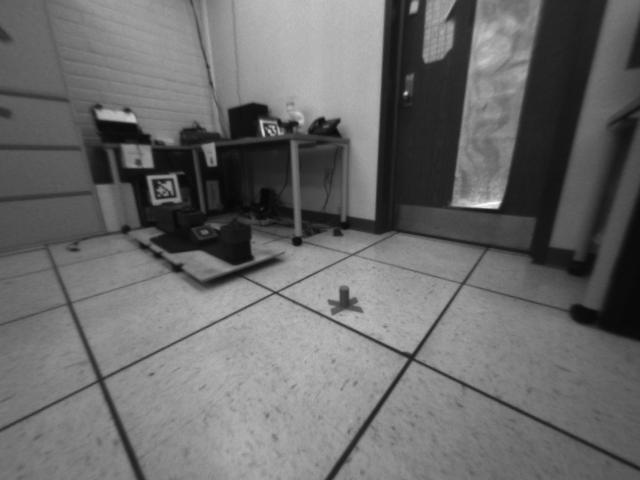X: (327, 284, 365, 317)
